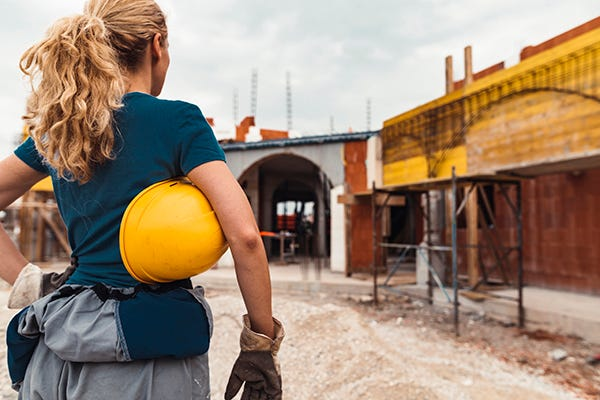hard hat: (117, 175, 232, 283)
